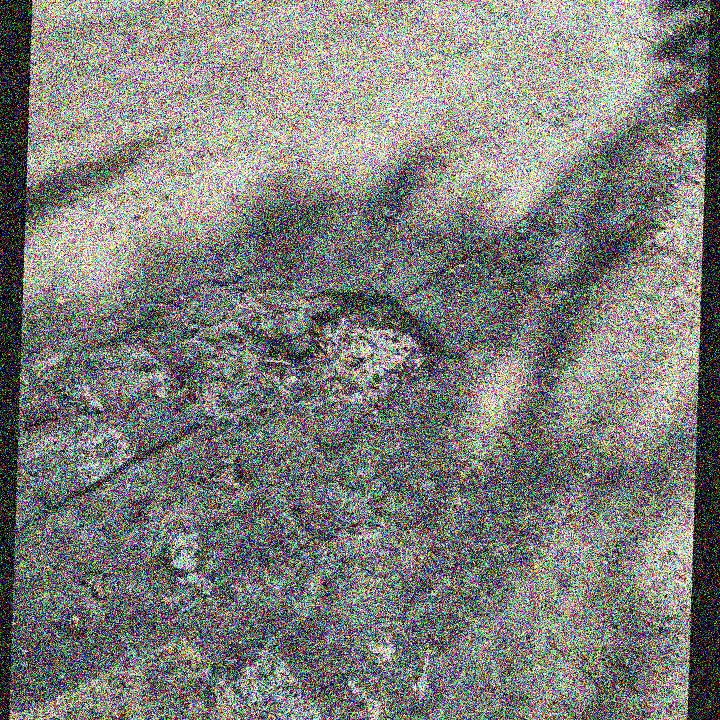pothole: (298, 282, 457, 411), (167, 325, 297, 419)
